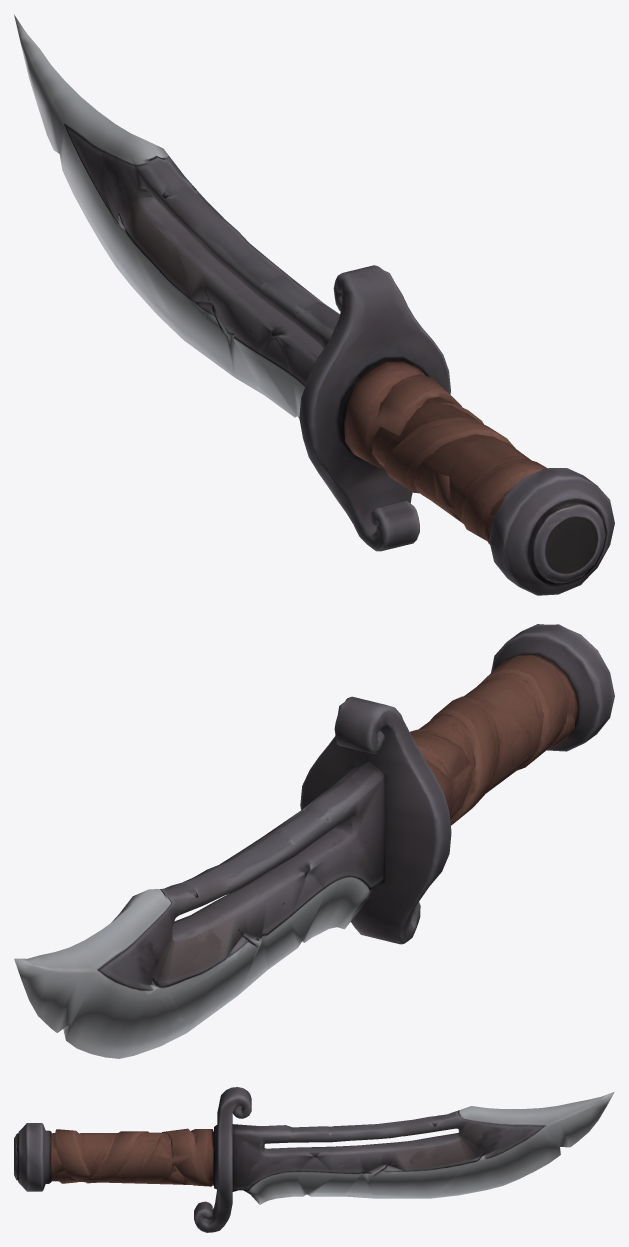
The model's file is raider_knife_tripo.glb.
The picture shows the model from 3 angles, top to bottom: view 1: azimuth 30°, elevation 25°; view 2: azimuth 150°, elevation 25°; view 3: azimuth 270°, elevation 25°; orthographic projection. The views are drawn at different scales.
Parts seen in each view (by area): view 1: tripo_node_4f1afc92-3ab0-484f-adc9-2c26168606b6; view 2: tripo_node_4f1afc92-3ab0-484f-adc9-2c26168606b6; view 3: tripo_node_4f1afc92-3ab0-484f-adc9-2c26168606b6.
Boxes of the visible parts, bbox=[...] form: tripo_node_4f1afc92-3ab0-484f-adc9-2c26168606b6: bbox=[14, 14, 614, 595]; tripo_node_4f1afc92-3ab0-484f-adc9-2c26168606b6: bbox=[14, 624, 614, 1058]; tripo_node_4f1afc92-3ab0-484f-adc9-2c26168606b6: bbox=[14, 1087, 614, 1232].
Size of the model in its own units: 0.1465 by 0.252 by 0.998.
1 material, 1 textured.
